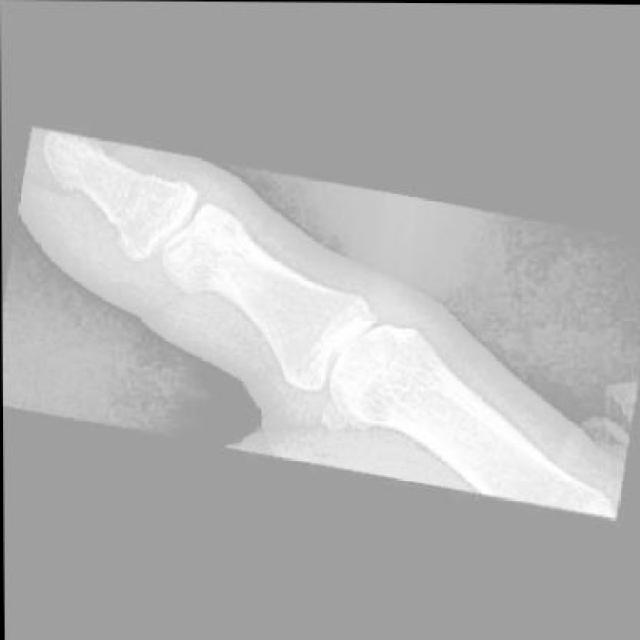Fracture: (85, 142, 161, 247)
